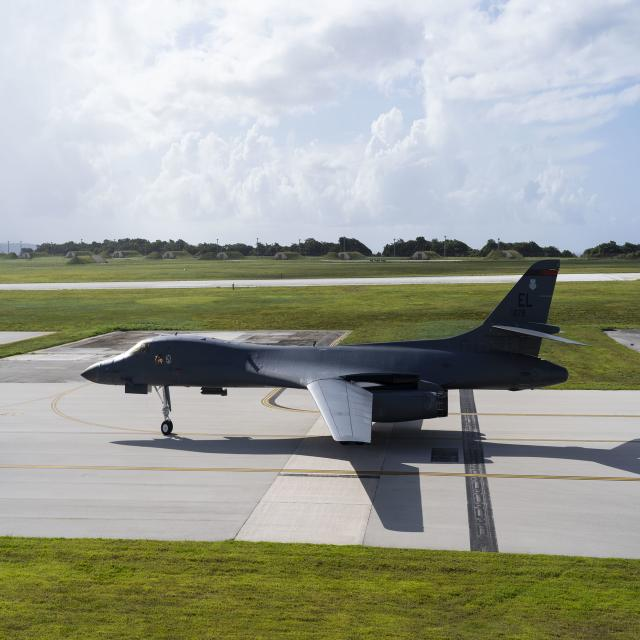MIL_Plane: (73, 291, 586, 413)
